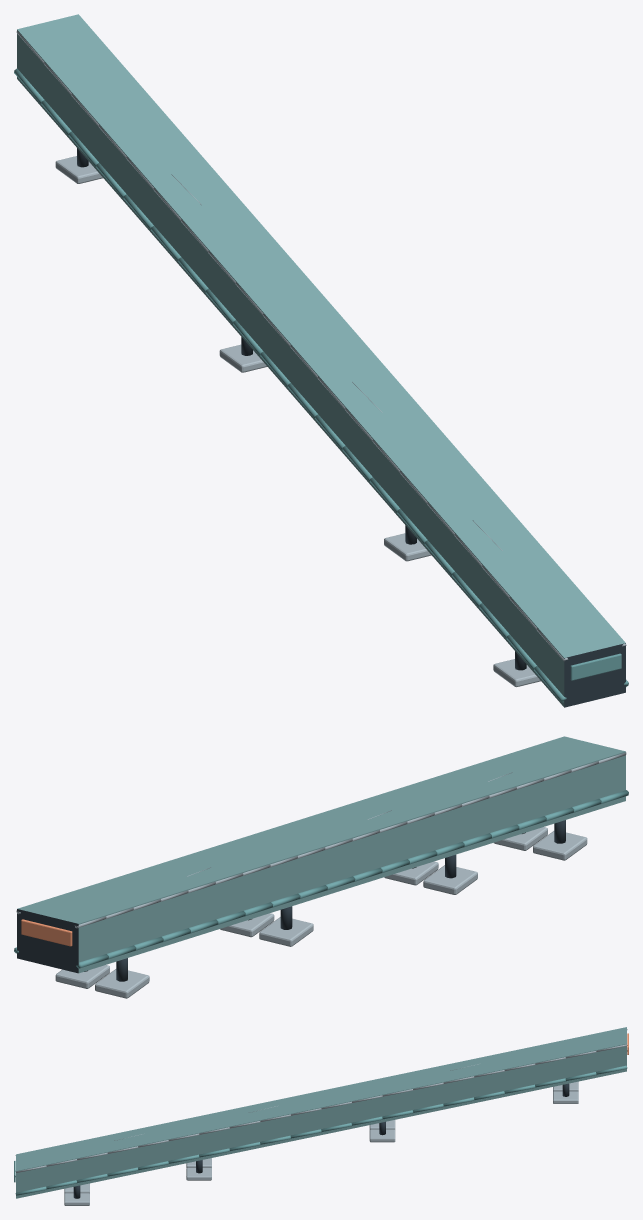
The model's file is Box_down.fbx.
3 views of the same model, one above another, from view 1: azimuth 30°, elevation 25°; view 2: azimuth 150°, elevation 25°; view 3: azimuth 270°, elevation 25° (orthographic). The views are drawn at different scales.
Visible parts, largest first — view 1: Visual_Box_down; view 2: Visual_Box_down; view 3: Visual_Box_down.
Boxes of the visible parts, <box> form: Visual_Box_down: <box>14,14,628,707</box>; Visual_Box_down: <box>14,736,628,998</box>; Visual_Box_down: <box>14,1027,628,1205</box>.
Size of what is drawn, in the model's own units: 0.766 by 2.91 by 10.07.
